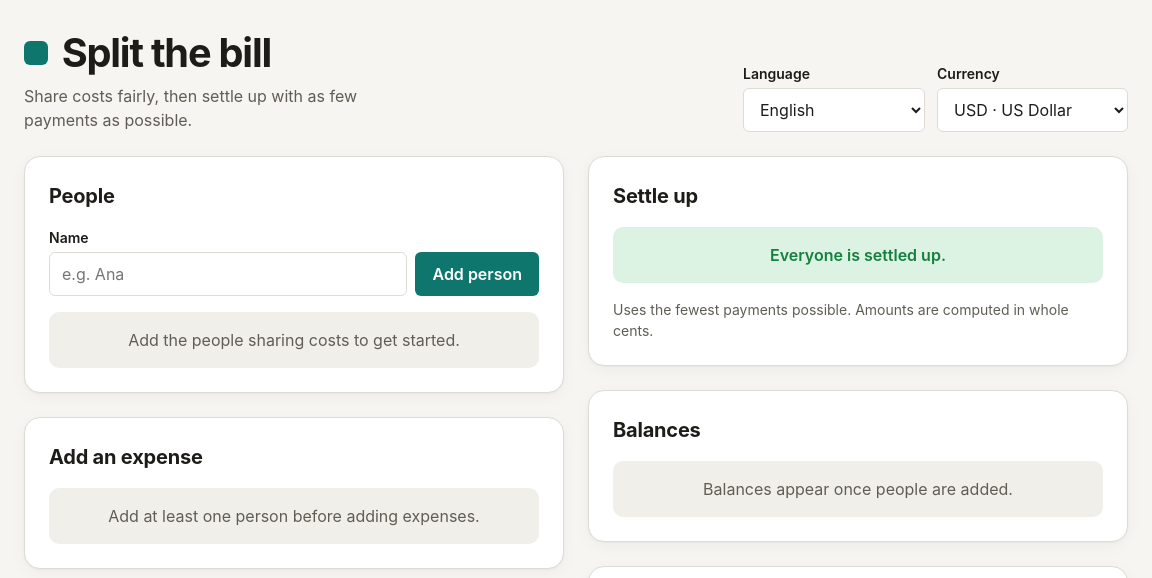
Scenario: App › adds people and rejects empty or duplicate names
Click the button "Add person". click: (477, 274)
box: left=416, top=252, right=539, bottom=296
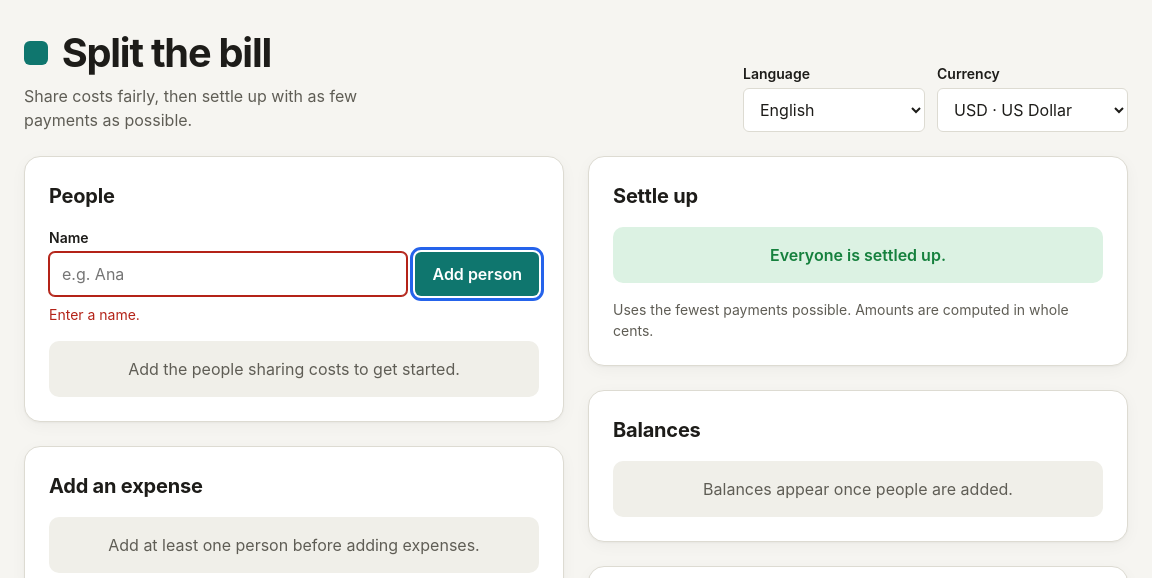
Check: the message reads "Enter a name.", box left=49, top=306, right=140, bottom=323
Type "Ana" into the field labelled "Name". click: (228, 274)
box: left=49, top=252, right=408, bottom=296
Then press Enter
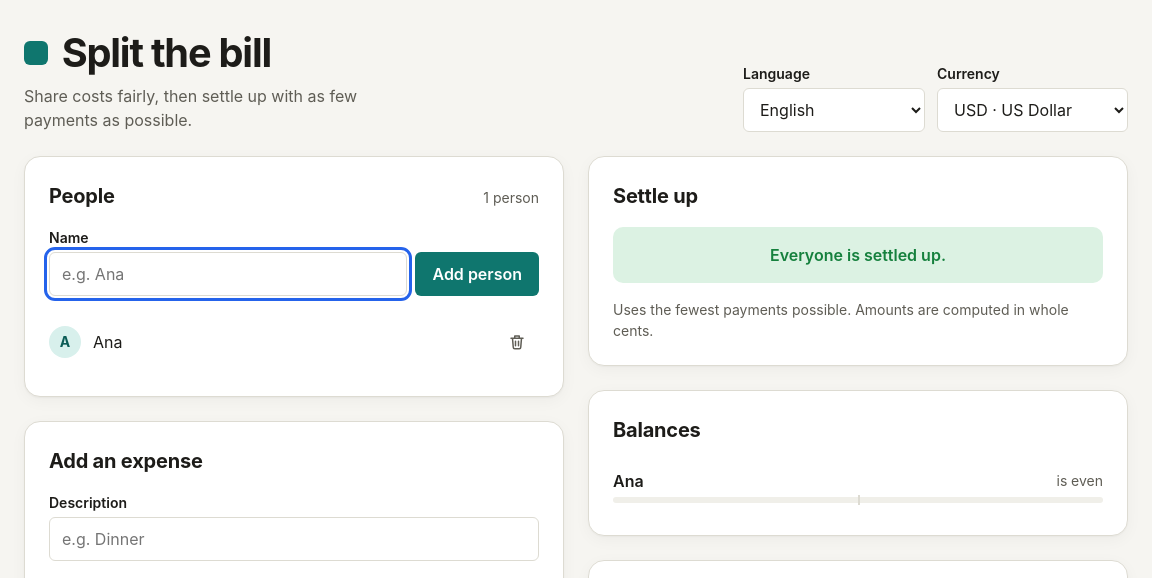
Type "Bruno" into the field labelled "Name". click: (228, 274)
box: left=49, top=252, right=408, bottom=296
Then press Enter
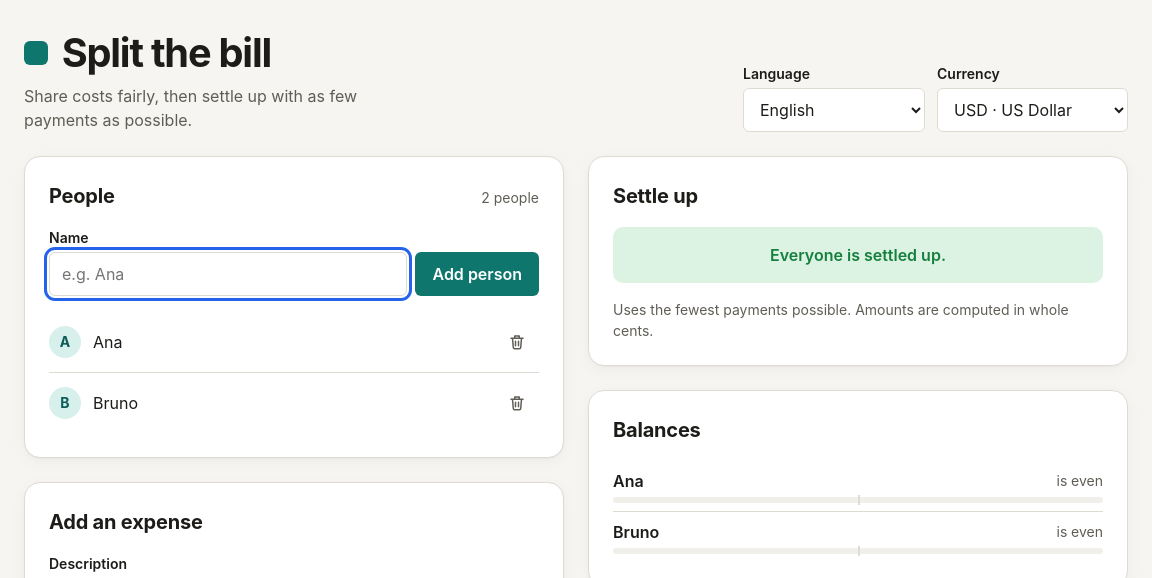
Type "ana" into the field labelled "Name". click: (228, 274)
box: left=49, top=252, right=408, bottom=296
Then press Enter
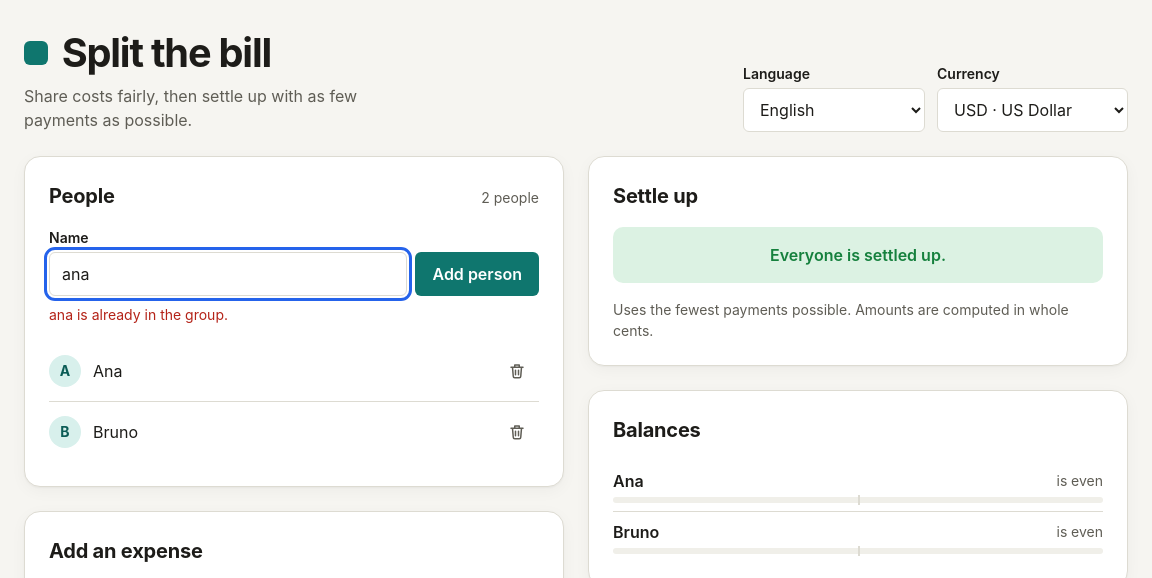
Check: the text "2 people" is shown, box left=481, top=187, right=539, bottom=208
Check: the message reads "ana is already in the group.", box left=49, top=306, right=228, bottom=323
